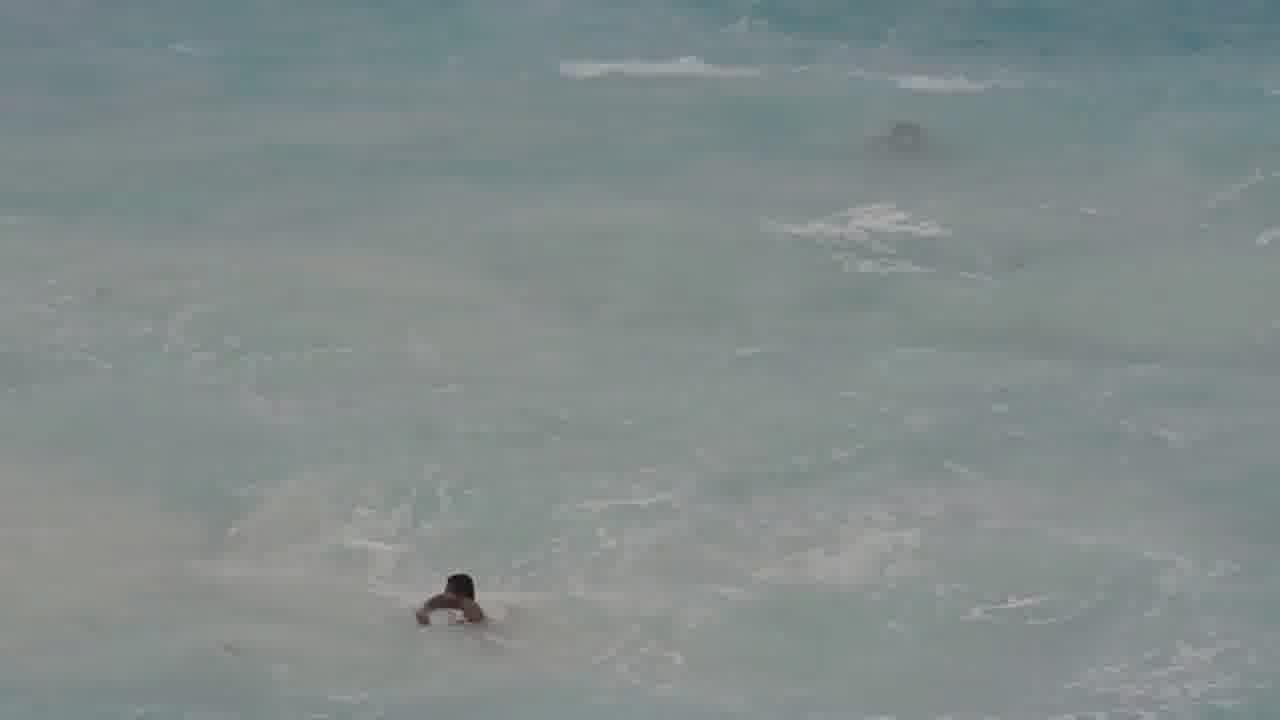human: (424, 564, 483, 621)
